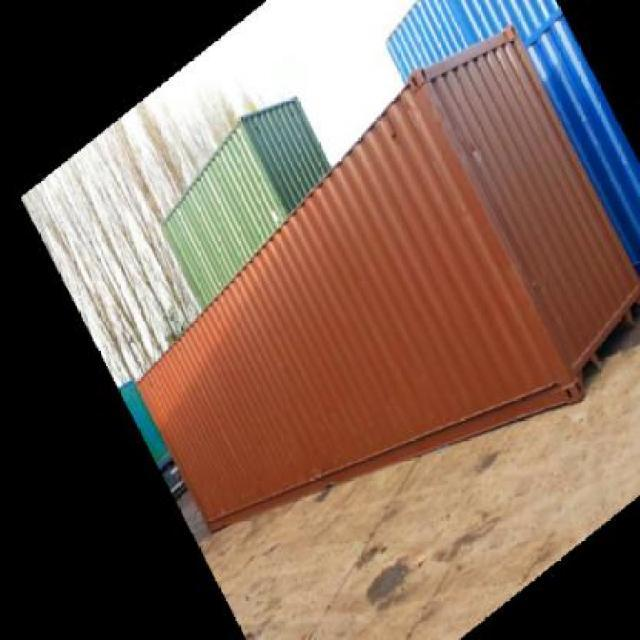hole: (462, 133, 495, 176)
